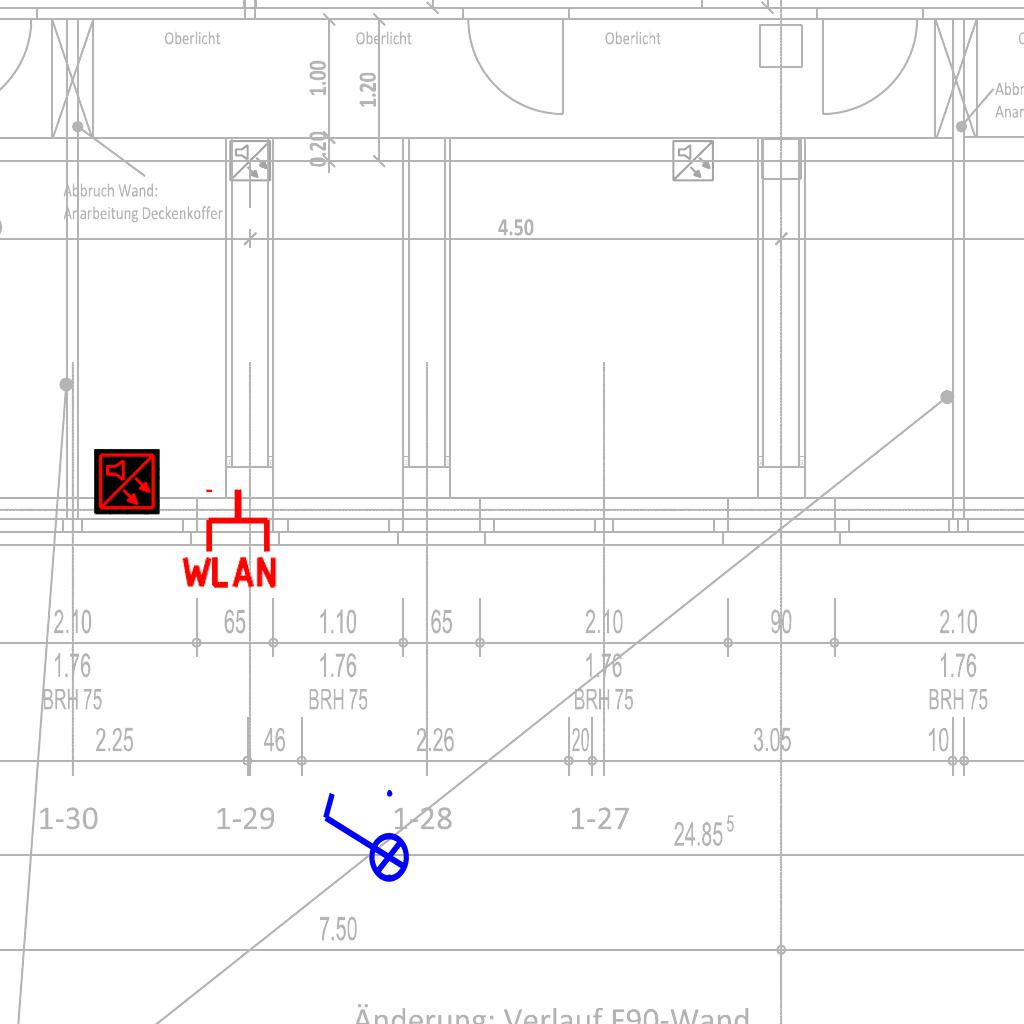Ausschalter_beleuchtet: (315, 784, 411, 896)
OKW_Multisensormelder_(Kombination_optischer_Rauch-Kahlenmonoxid_Waerme-Melder): (94, 449, 160, 515)
WLAN: (177, 485, 281, 590)
